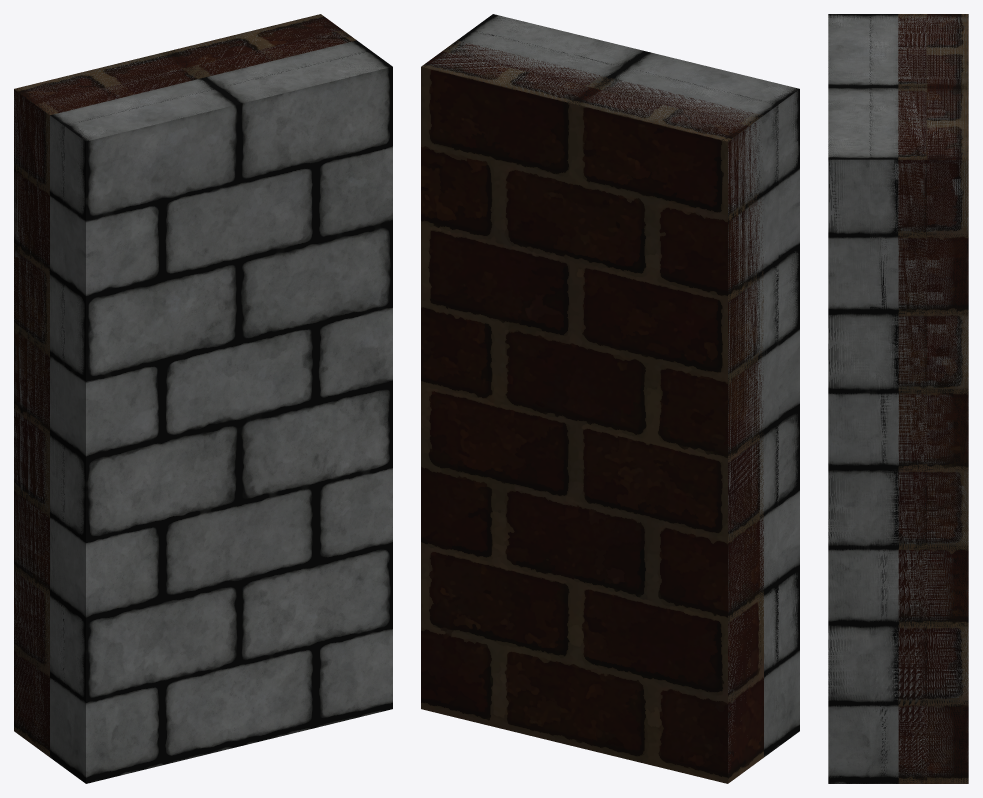
The model's file is Walls-Half.fbx.
The picture shows the model from 3 angles, left to right: view 1: azimuth 30°, elevation 25°; view 2: azimuth 150°, elevation 25°; view 3: azimuth 270°, elevation 25°; orthographic projection. The views are drawn at different scales.
Visible parts, largest first — view 1: Wall 3x3 Thick Double Mat half, Wall 3x3 Double Mat half, Wall 3x3 Thick half, Wall 3x3 half; view 2: Wall 3x3 Thick Double Mat half, Wall 3x3 Thick half, Wall 3x3 half, Wall 3x3 Double Mat half; view 3: Wall 3x3 Thick Double Mat half, Wall 3x3 Double Mat half, Wall 3x3 Thick half, Wall 3x3 half.
Part boxes in pixels (x1,y1,x2,y2): Wall 3x3 Thick Double Mat half: [14, 14, 392, 783]; Wall 3x3 Double Mat half: [35, 30, 371, 767]; Wall 3x3 Thick half: [14, 14, 390, 781]; Wall 3x3 half: [35, 30, 370, 763]; Wall 3x3 Thick Double Mat half: [421, 14, 799, 783]; Wall 3x3 Thick half: [422, 14, 799, 776]; Wall 3x3 half: [443, 30, 778, 744]; Wall 3x3 Double Mat half: [443, 29, 778, 759]; Wall 3x3 Thick Double Mat half: [828, 14, 968, 783]; Wall 3x3 Double Mat half: [869, 14, 927, 783]; Wall 3x3 Thick half: [828, 14, 968, 783]; Wall 3x3 half: [869, 14, 927, 783].
Size of the model in its own units: 1.5 by 3 by 0.6103.
